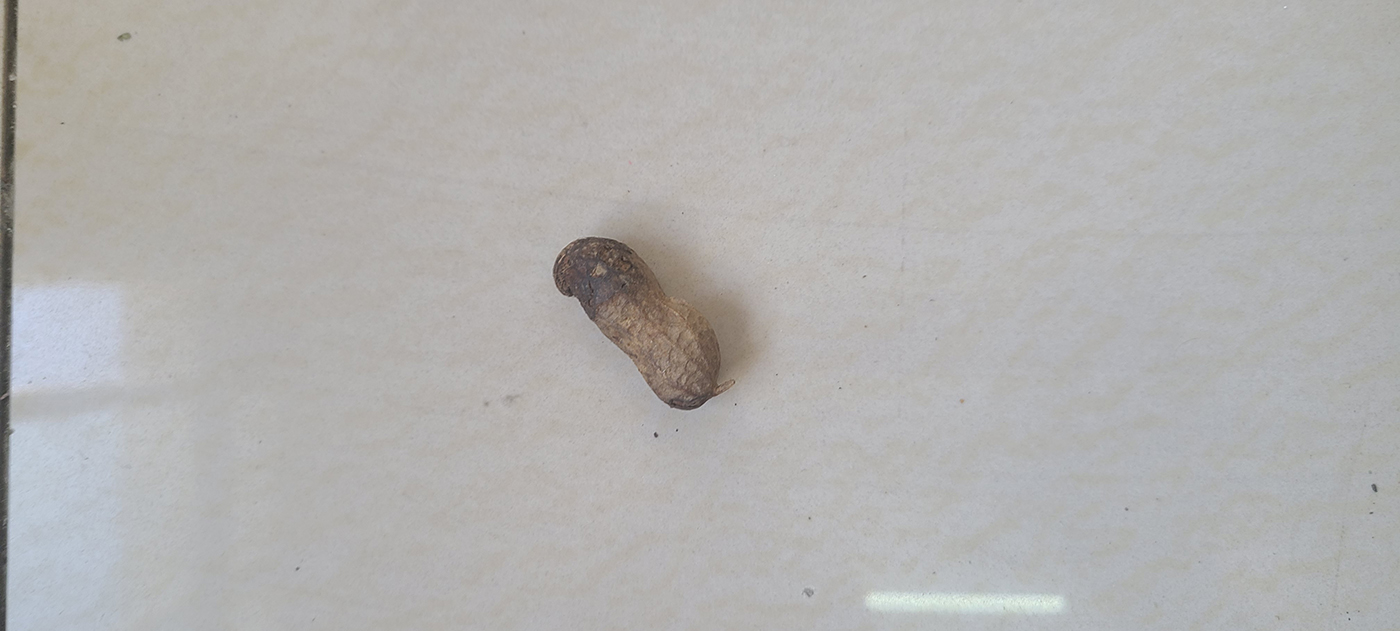l: (556, 237, 721, 412)
